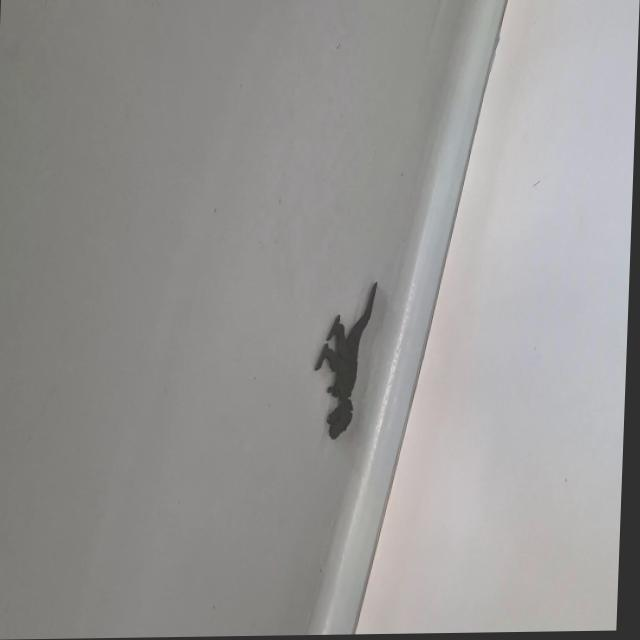dino: (311, 280, 377, 441)
